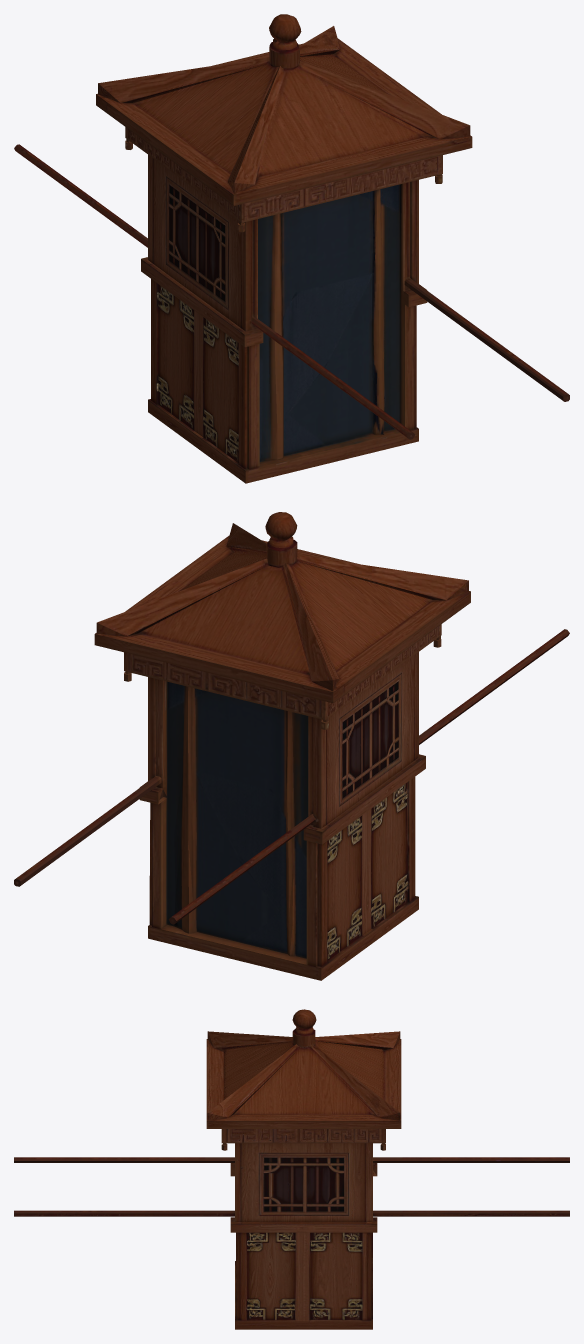
Rendered from palanquin_M.FBX.
3 views of the same model, one above another, from view 1: azimuth 30°, elevation 25°; view 2: azimuth 150°, elevation 25°; view 3: azimuth 270°, elevation 25° (orthographic). The views are drawn at different scales.
Parts seen in each view (by area): view 1: Object004; view 2: Object004; view 3: Object004.
Boxes of the visible parts, left/top/right/bottom form: Object004: left=14, top=14, right=569, bottom=483; Object004: left=14, top=512, right=569, bottom=980; Object004: left=14, top=1009, right=569, bottom=1329.
Size of the model in its own units: 0.3496 by 0.5723 by 0.998.
